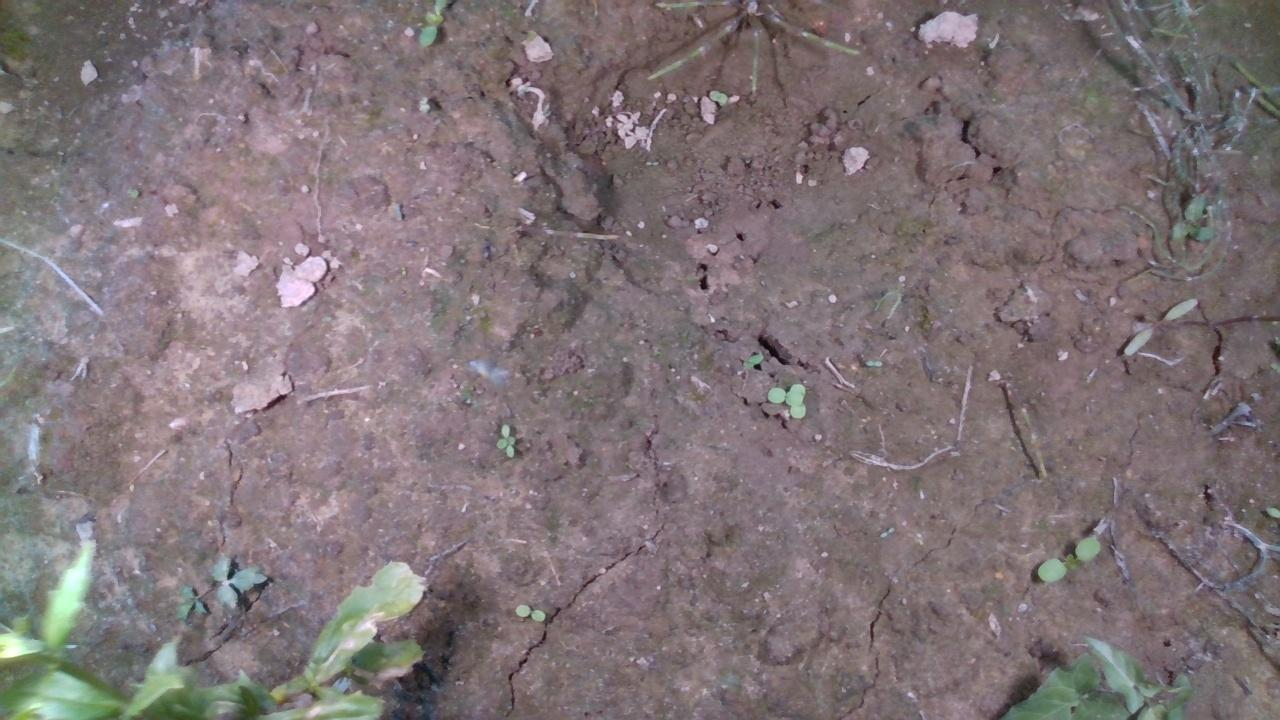weed: (1121, 295, 1195, 357), (1034, 535, 1102, 586), (484, 419, 518, 460), (509, 598, 550, 621)
